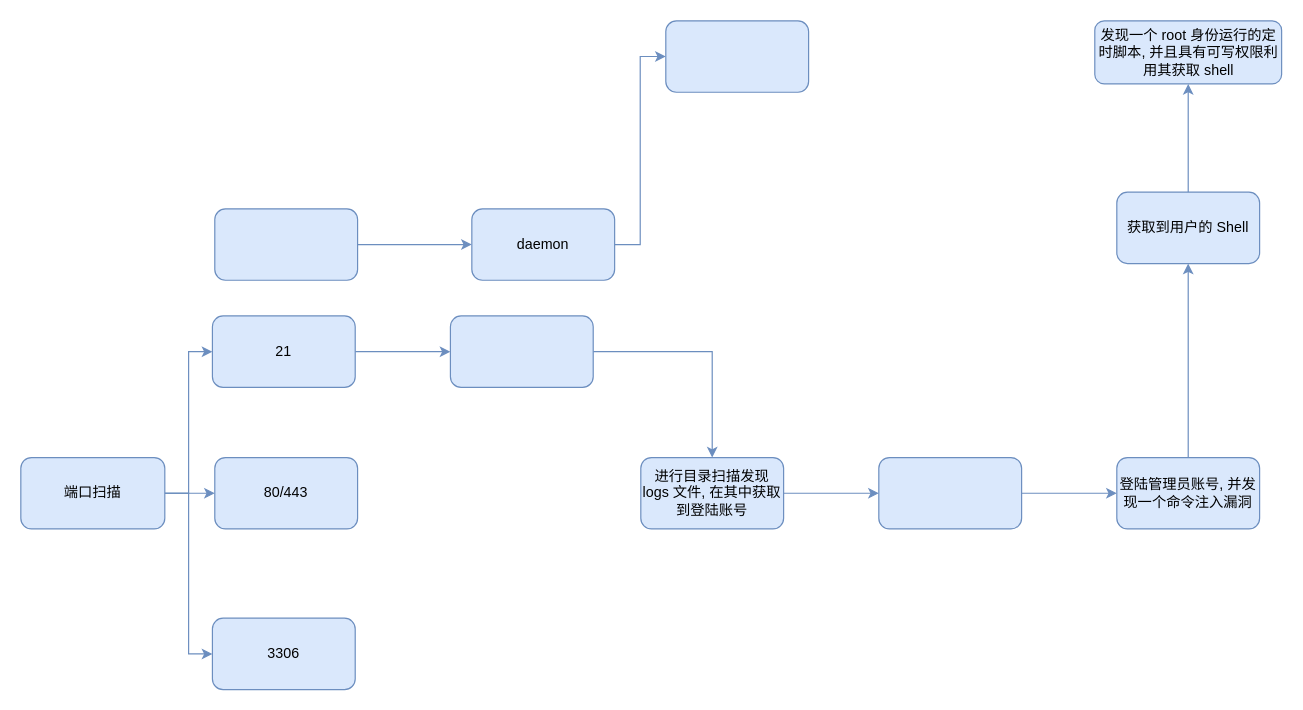
Some shapes in this 1303 by 710 pixel diagram are drawn without their labels. The shapes that lost their labels are listed below. From the top down, each one's centre as x and y in pixels, then its label:
At (737,56): "root".
At (286,244): "Shell".
At (521,351): "存在匿名登陆但是没有什么数据".
At (950,492): "登陆之后发现其存在 sqli 利用此来读取数据库获取到管理员账号".
